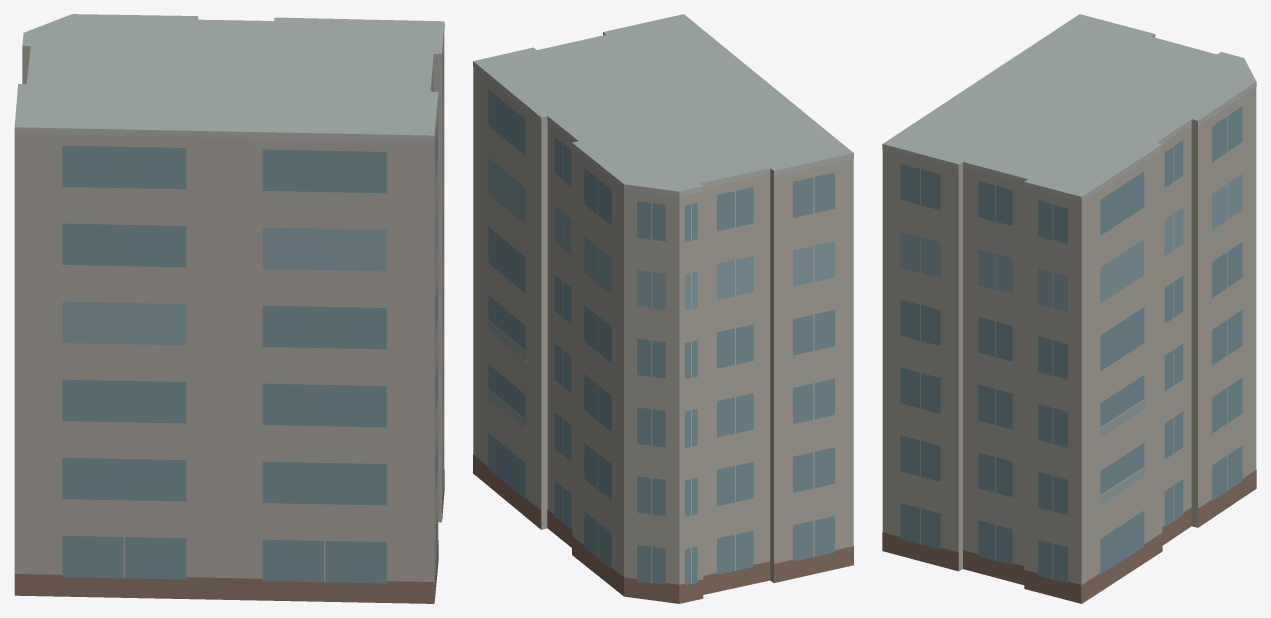
File: survey-upis-32853443.glb
3 renders of one model, left to right at view 1: azimuth 30°, elevation 25°; view 2: azimuth 150°, elevation 25°; view 3: azimuth 270°, elevation 25°, orthographic. The views are drawn at different scales.
Parts seen in each view (by area): view 1: survey-upis-32853443.tmp; view 2: survey-upis-32853443.tmp; view 3: survey-upis-32853443.tmp.
Part boxes in pixels (left/top/right/bottom): survey-upis-32853443.tmp: left=14, top=14, right=444, bottom=603; survey-upis-32853443.tmp: left=473, top=14, right=853, bottom=603; survey-upis-32853443.tmp: left=882, top=14, right=1256, bottom=603.
Size of the model in its own units: 17.74 by 18.4 by 15.33.
